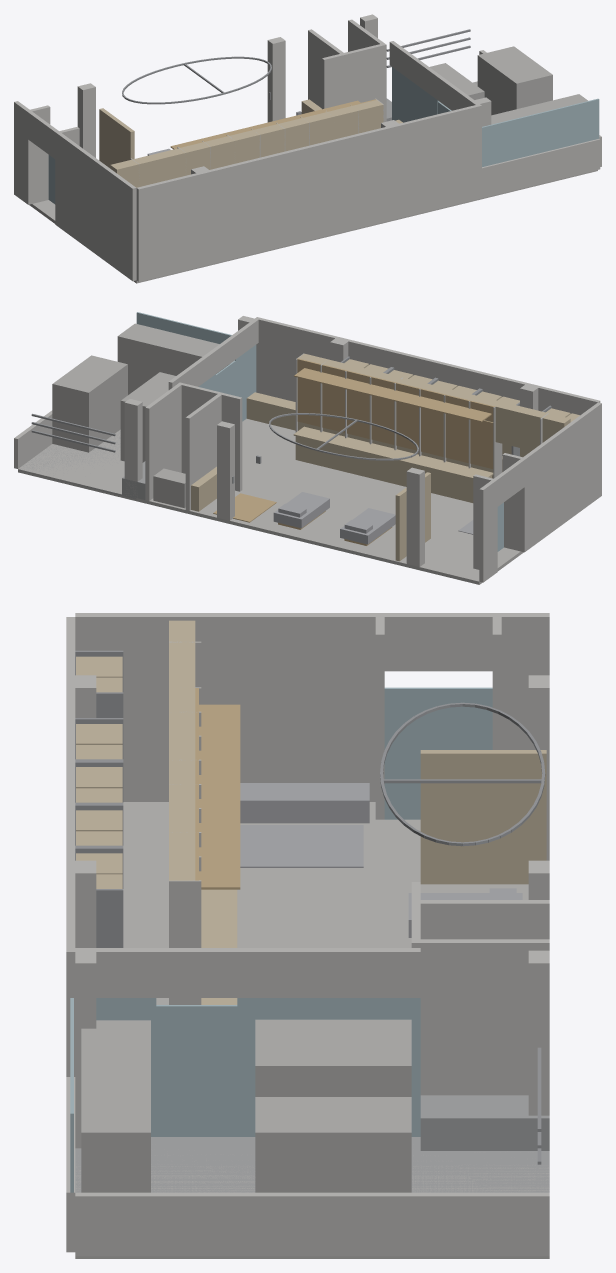
Rendered from showroom_massing_cut.glb.
The picture shows the model from 3 angles, top to bottom: view 1: azimuth 30°, elevation 25°; view 2: azimuth 150°, elevation 25°; view 3: azimuth 270°, elevation 25°; orthographic projection. The views are drawn at different scales.
Parts seen in each view (by area): view 1: wall_south, wall_west_s, inv_wall_e, ziptrack_s, store_b, patio_parapet_s, north_rooms_front, patio_head, patio_glazing_n, wall_west_n, feature_wall, col_n_1 (+11 smaller); view 2: floor, wall_south, backlit_panel, wall_west_s, store_b, store_c, workbench, wc_wall_e, pantry_wall_e, light_panel, north_rooms_front, workbench_top (+29 smaller); view 3: wall_west_s, patio_parapet_e, floor, wc_wall_e, patio_head, feature_wall, store_b, store_a, patio_deck, store_c, glass_door, door_leaf (+28 smaller).
Part boxes in pixels (x1,y1,x2,y2): wall_south: [136, 104, 481, 281]; wall_west_s: [55, 131, 136, 281]; inv_wall_e: [180, 100, 383, 175]; ziptrack_s: [482, 98, 599, 166]; store_b: [477, 46, 552, 115]; patio_parapet_s: [482, 138, 600, 197]; north_rooms_front: [322, 43, 386, 122]; patio_head: [389, 41, 478, 110]; patio_glazing_n: [392, 67, 438, 122]; wall_west_n: [14, 101, 31, 204]; feature_wall: [99, 108, 134, 168]; col_n_1: [267, 37, 285, 122]; floor: [18, 418, 523, 584]; wall_south: [255, 317, 600, 415]; backlit_panel: [297, 377, 493, 468]; wall_west_s: [520, 402, 601, 552]; store_b: [52, 355, 127, 452]; store_c: [117, 323, 234, 394]; workbench: [295, 436, 491, 502]; wc_wall_e: [145, 384, 181, 500]; pantry_wall_e: [185, 394, 221, 510]; light_panel: [294, 368, 491, 422]; north_rooms_front: [178, 382, 242, 491]; workbench_top: [293, 426, 493, 479]; wall_west_s: [75, 613, 384, 801]; patio_parapet_e: [75, 1192, 549, 1256]; floor: [75, 802, 549, 1258]; wc_wall_e: [420, 939, 549, 1095]; patio_head: [75, 948, 420, 997]; feature_wall: [420, 750, 546, 884]; store_b: [255, 1097, 411, 1192]; store_a: [255, 1019, 411, 1096]; patio_deck: [75, 1137, 549, 1192]; store_c: [81, 1020, 150, 1192]; glass_door: [156, 1005, 237, 1136]; door_leaf: [384, 687, 492, 819].
Bounding box in the file's own units: 18.05 × 3.52 × 8.05.
